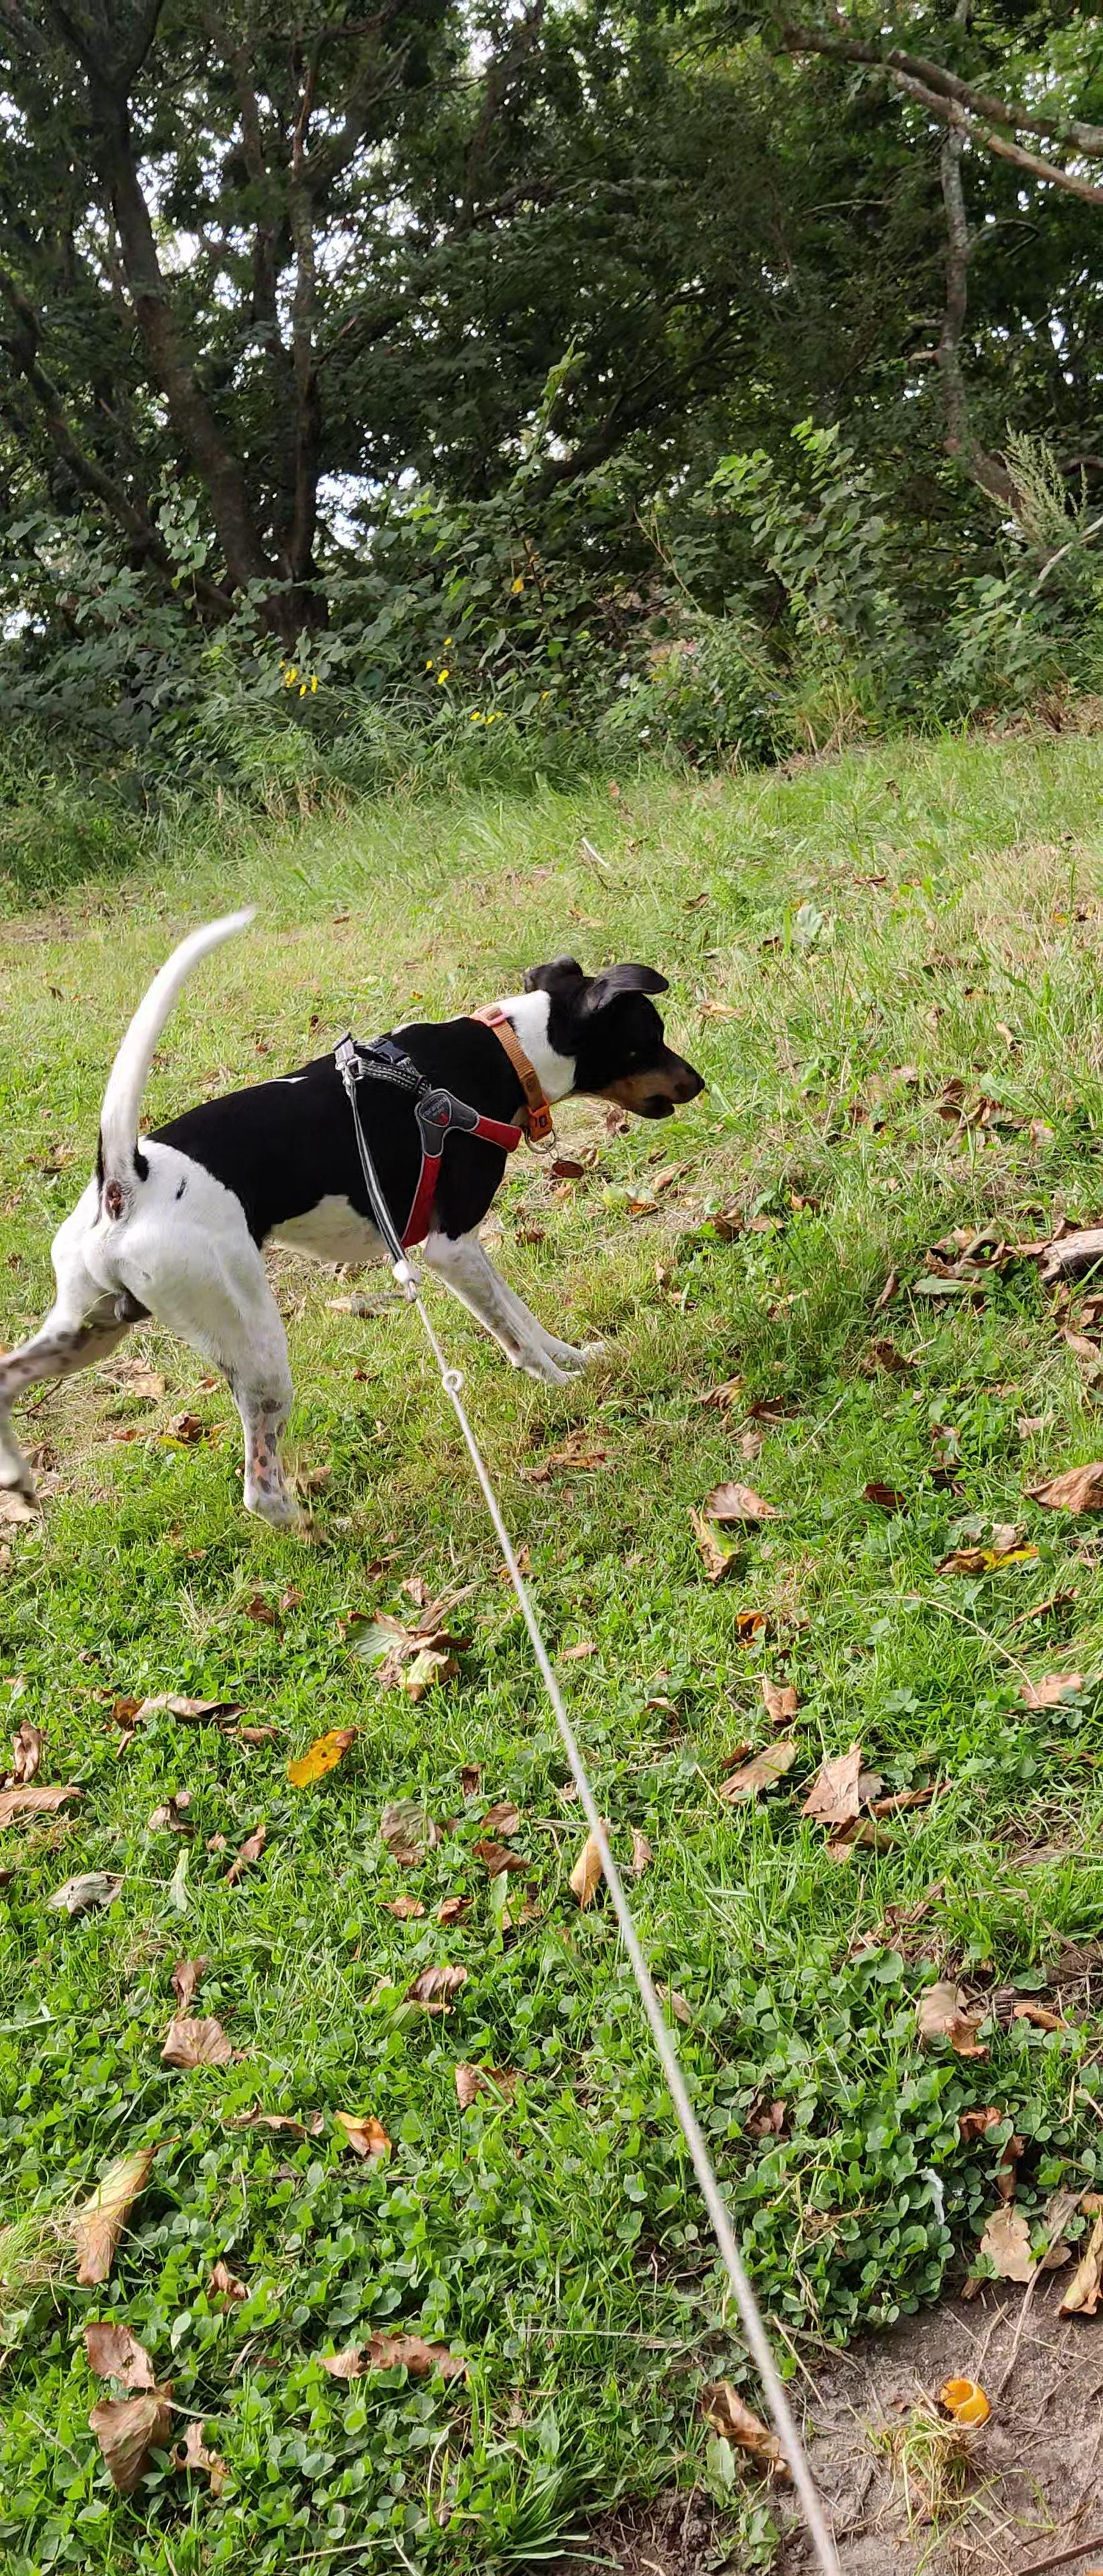Dog: (0, 881, 720, 1579)
